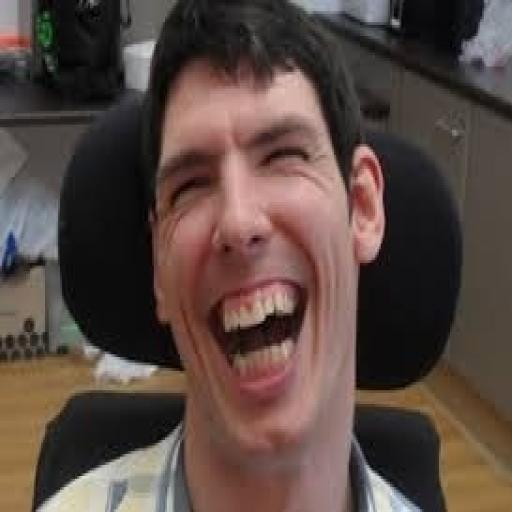laughing: (32, 3, 457, 506)
